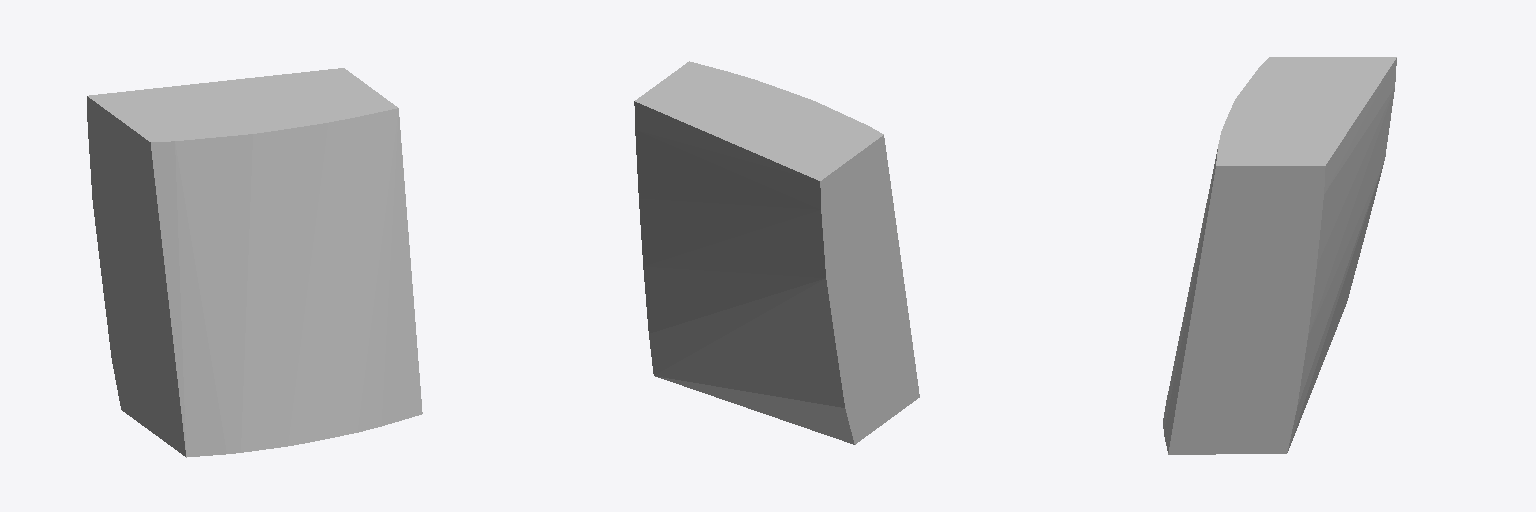
File: phantom-elastrat_collision_561.obj
The picture shows the model from 3 angles: view 1: azimuth 30°, elevation 25°; view 2: azimuth 150°, elevation 25°; view 3: azimuth 270°, elevation 25°; orthographic projection.
Bounding box in the file's own units: 0.0038 × 0.0047 × 0.0034.